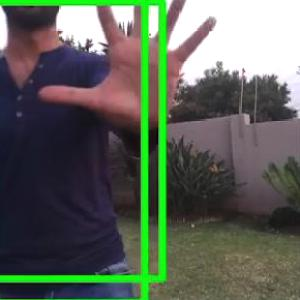follow_hand: (35, 0, 227, 140)
